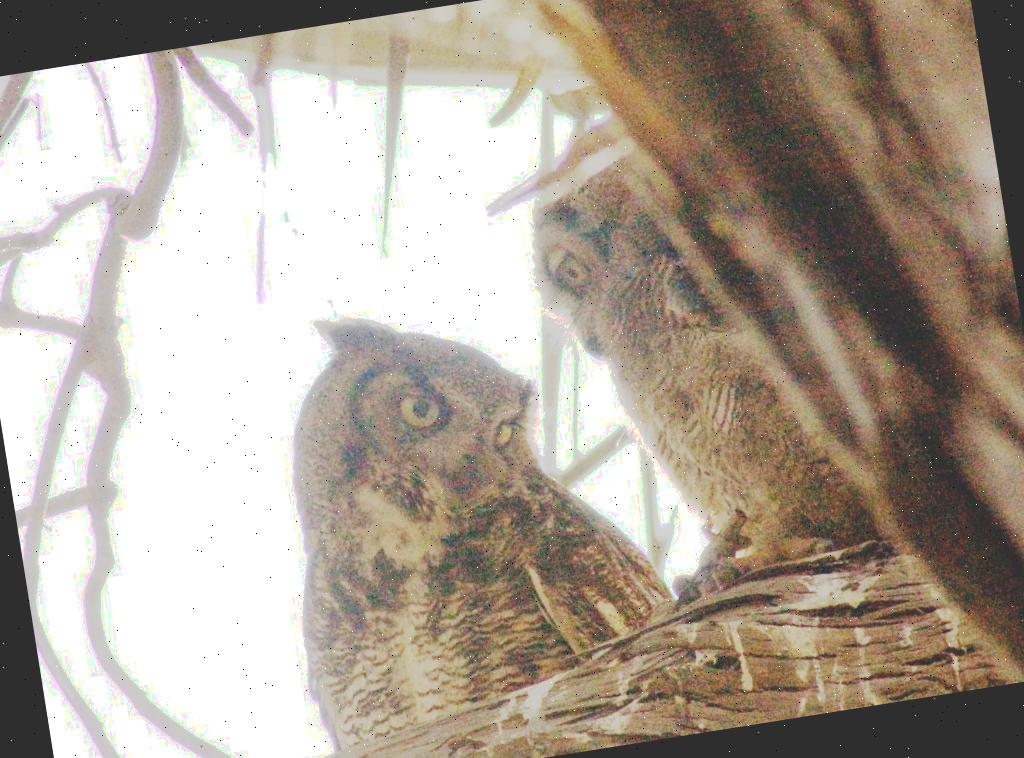Owl: (250, 273, 689, 758)
